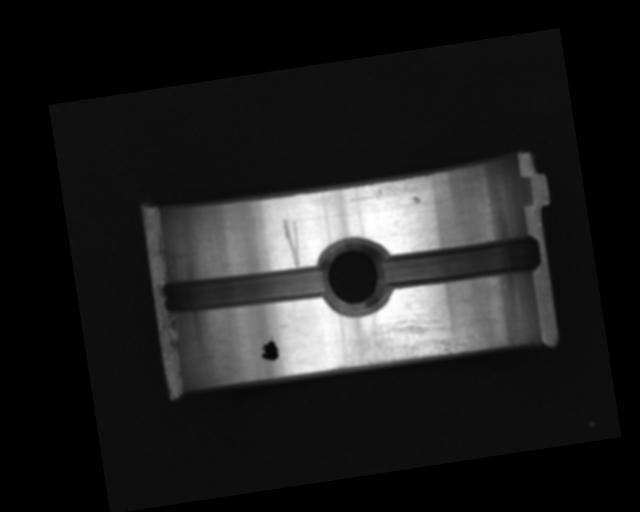blot: (256, 333, 281, 364)
bruise: (411, 195, 421, 204)
gap: (156, 255, 330, 322), (377, 230, 542, 293)
hole: (316, 235, 394, 319)
nick: (280, 217, 304, 269)
scratch: (325, 306, 482, 375)
